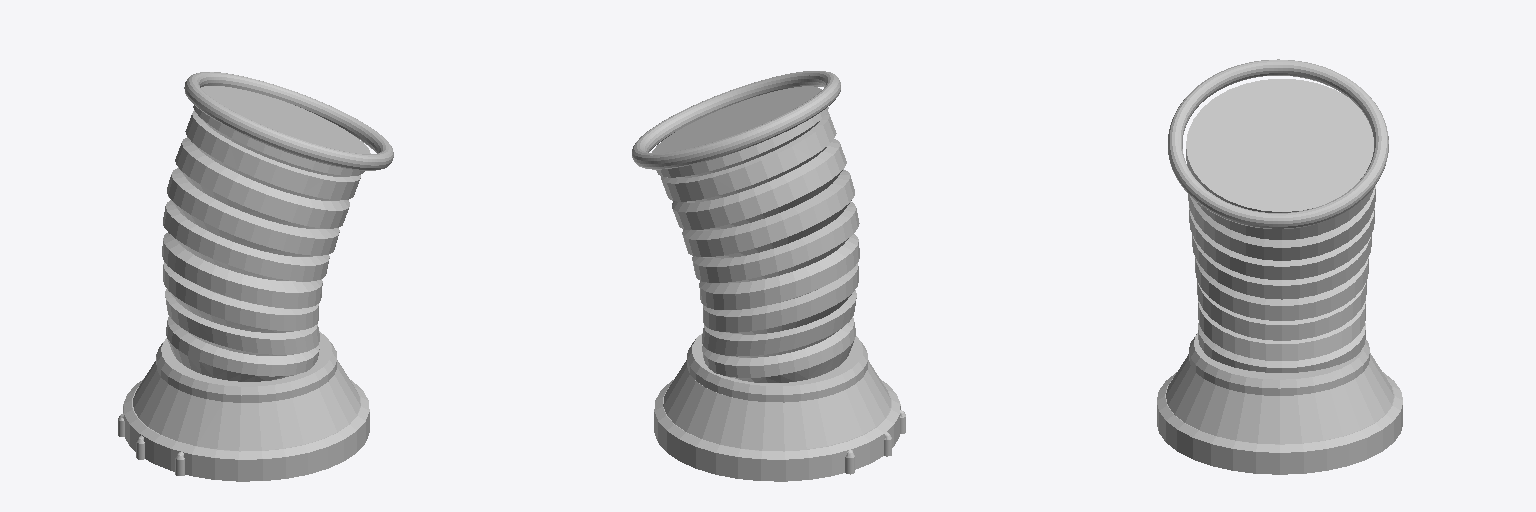
The model's file is AtrasDerecha.obj.
The picture shows the model from 3 angles: view 1: azimuth 30°, elevation 25°; view 2: azimuth 150°, elevation 25°; view 3: azimuth 270°, elevation 25°; orthographic projection.
Visible parts, largest first — view 1: Der_Trasera_Goddard_None; view 2: Der_Trasera_Goddard_None; view 3: Der_Trasera_Goddard_None.
Part boxes in pixels (x1,y1,x2,y2): Der_Trasera_Goddard_None: (118, 72, 393, 481); Der_Trasera_Goddard_None: (632, 71, 905, 481); Der_Trasera_Goddard_None: (1157, 59, 1402, 474).
Size of the model in its own units: 1.17 by 1.58 by 1.03.